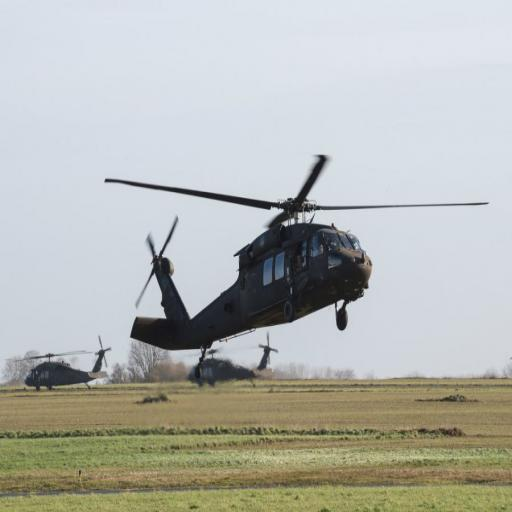helicopter: (123, 157, 488, 371), (190, 326, 284, 398), (16, 336, 114, 401)
